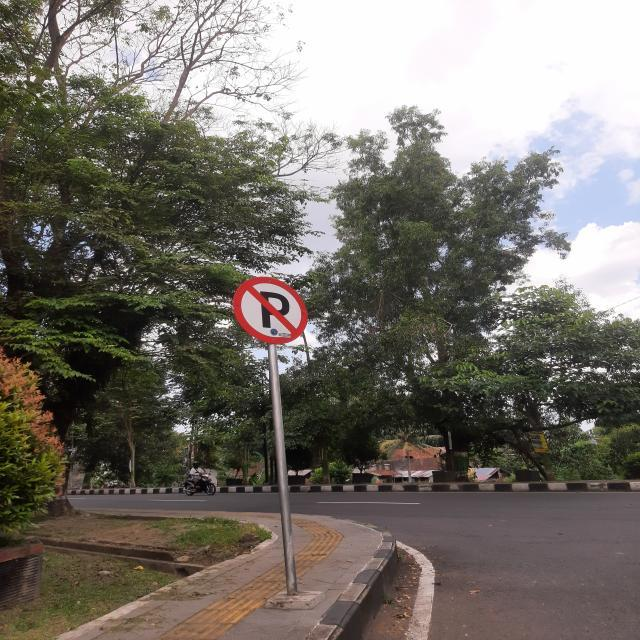Dilarang Parkir: (233, 277, 308, 344)
